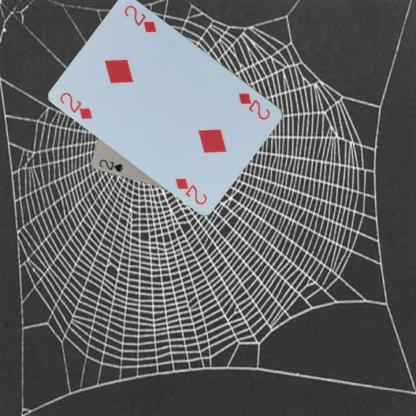2d: (236, 90, 272, 121), (57, 90, 94, 120)
2s: (96, 156, 125, 173)
